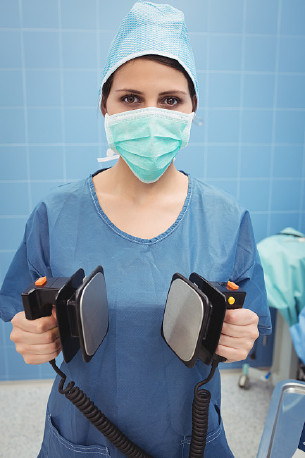face_mask: (105, 62, 192, 185)
